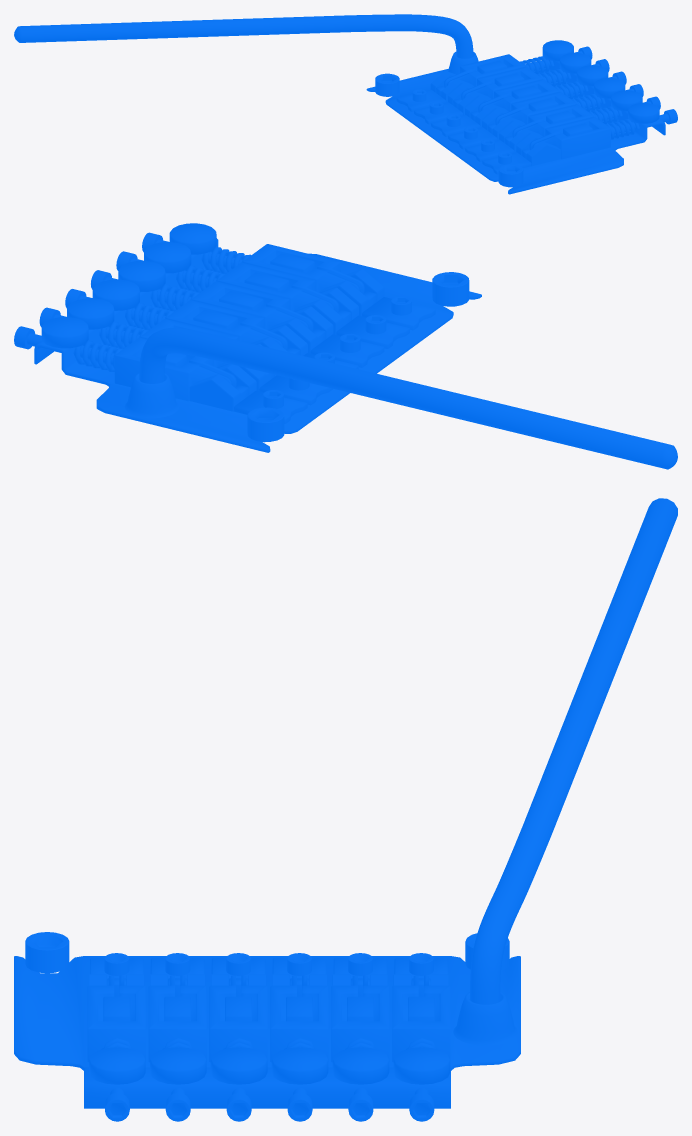
Rendered from whammy_02_streight.glb.
The picture shows the model from 3 angles, top to bottom: view 1: azimuth 30°, elevation 25°; view 2: azimuth 150°, elevation 25°; view 3: azimuth 270°, elevation 25°; orthographic projection. The views are drawn at different scales.
Parts seen in each view (by area): view 1: whammy_02_streight; view 2: whammy_02_streight; view 3: whammy_02_streight.
Boxes of the visible parts, x1=… form: whammy_02_streight: x1=14, y1=14, x2=677, y2=194; whammy_02_streight: x1=14, y1=223, x2=677, y2=469; whammy_02_streight: x1=14, y1=498, x2=677, y2=1121.
Bounding box in the file's own units: 0.1304 × 0.0269 × 0.0831.
